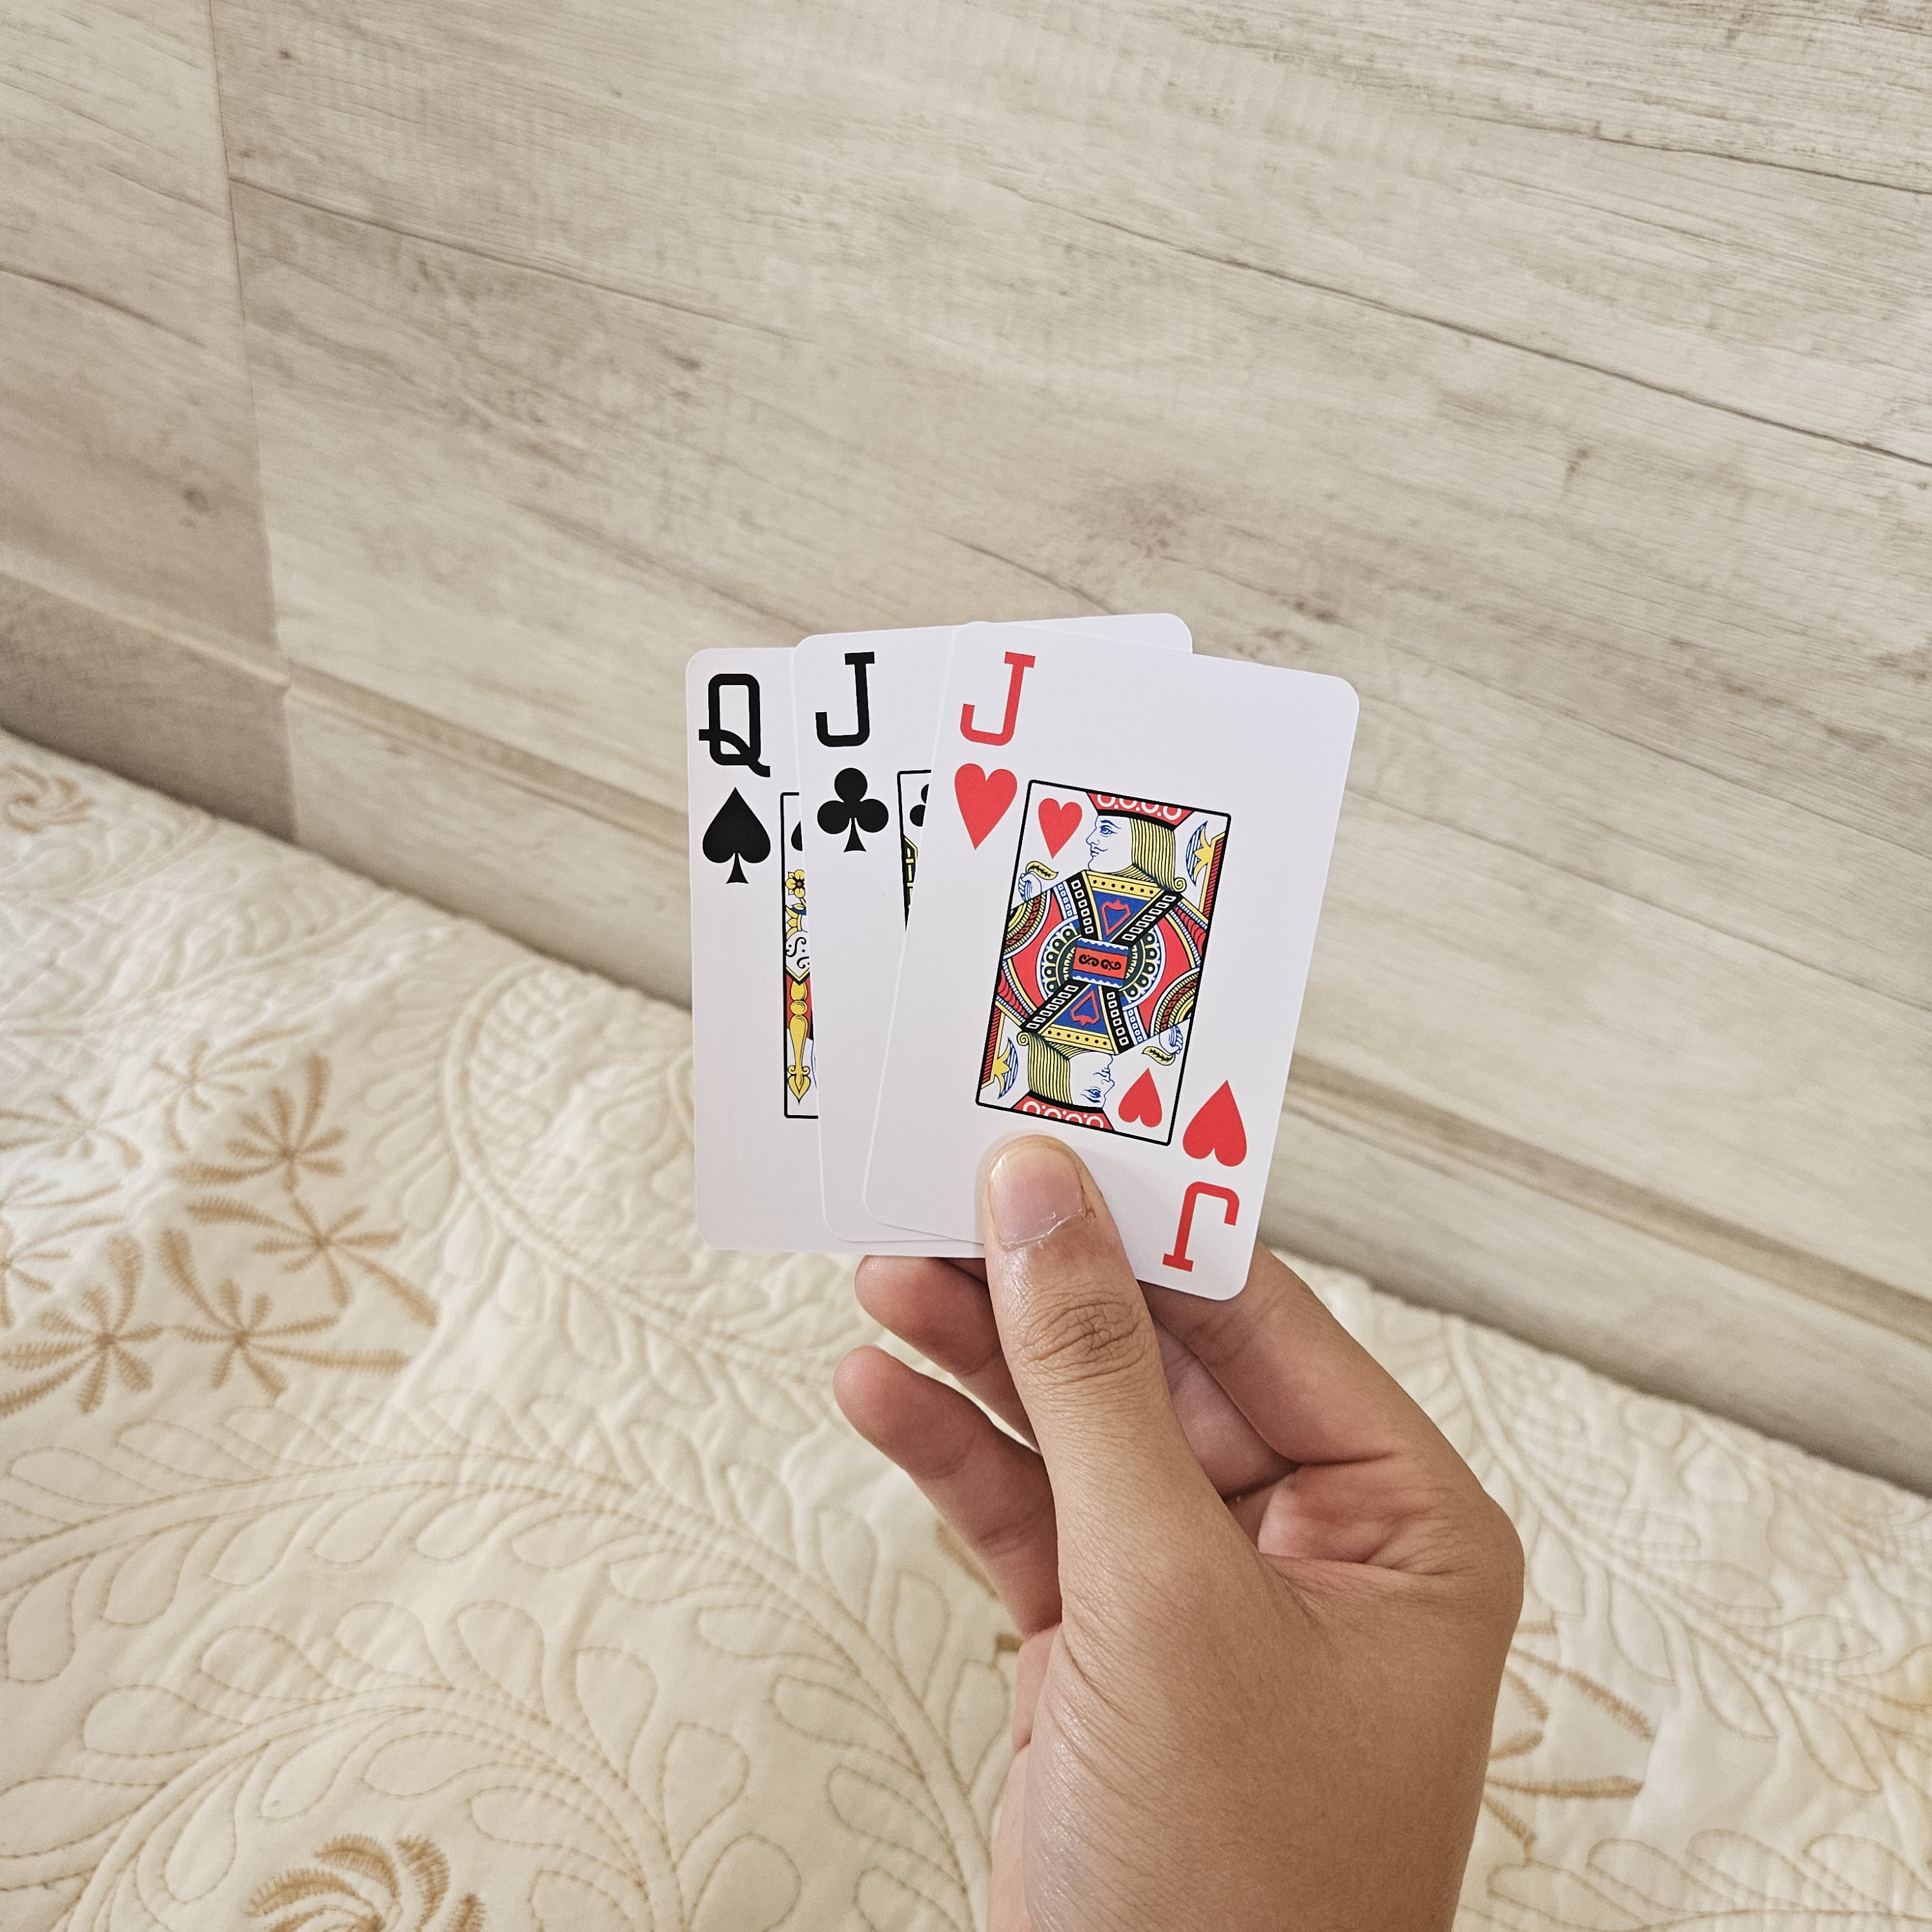JC: (941, 628, 1040, 858), (1162, 1065, 1256, 1284)
JP: (796, 642, 904, 860)
QE: (685, 653, 787, 892)
